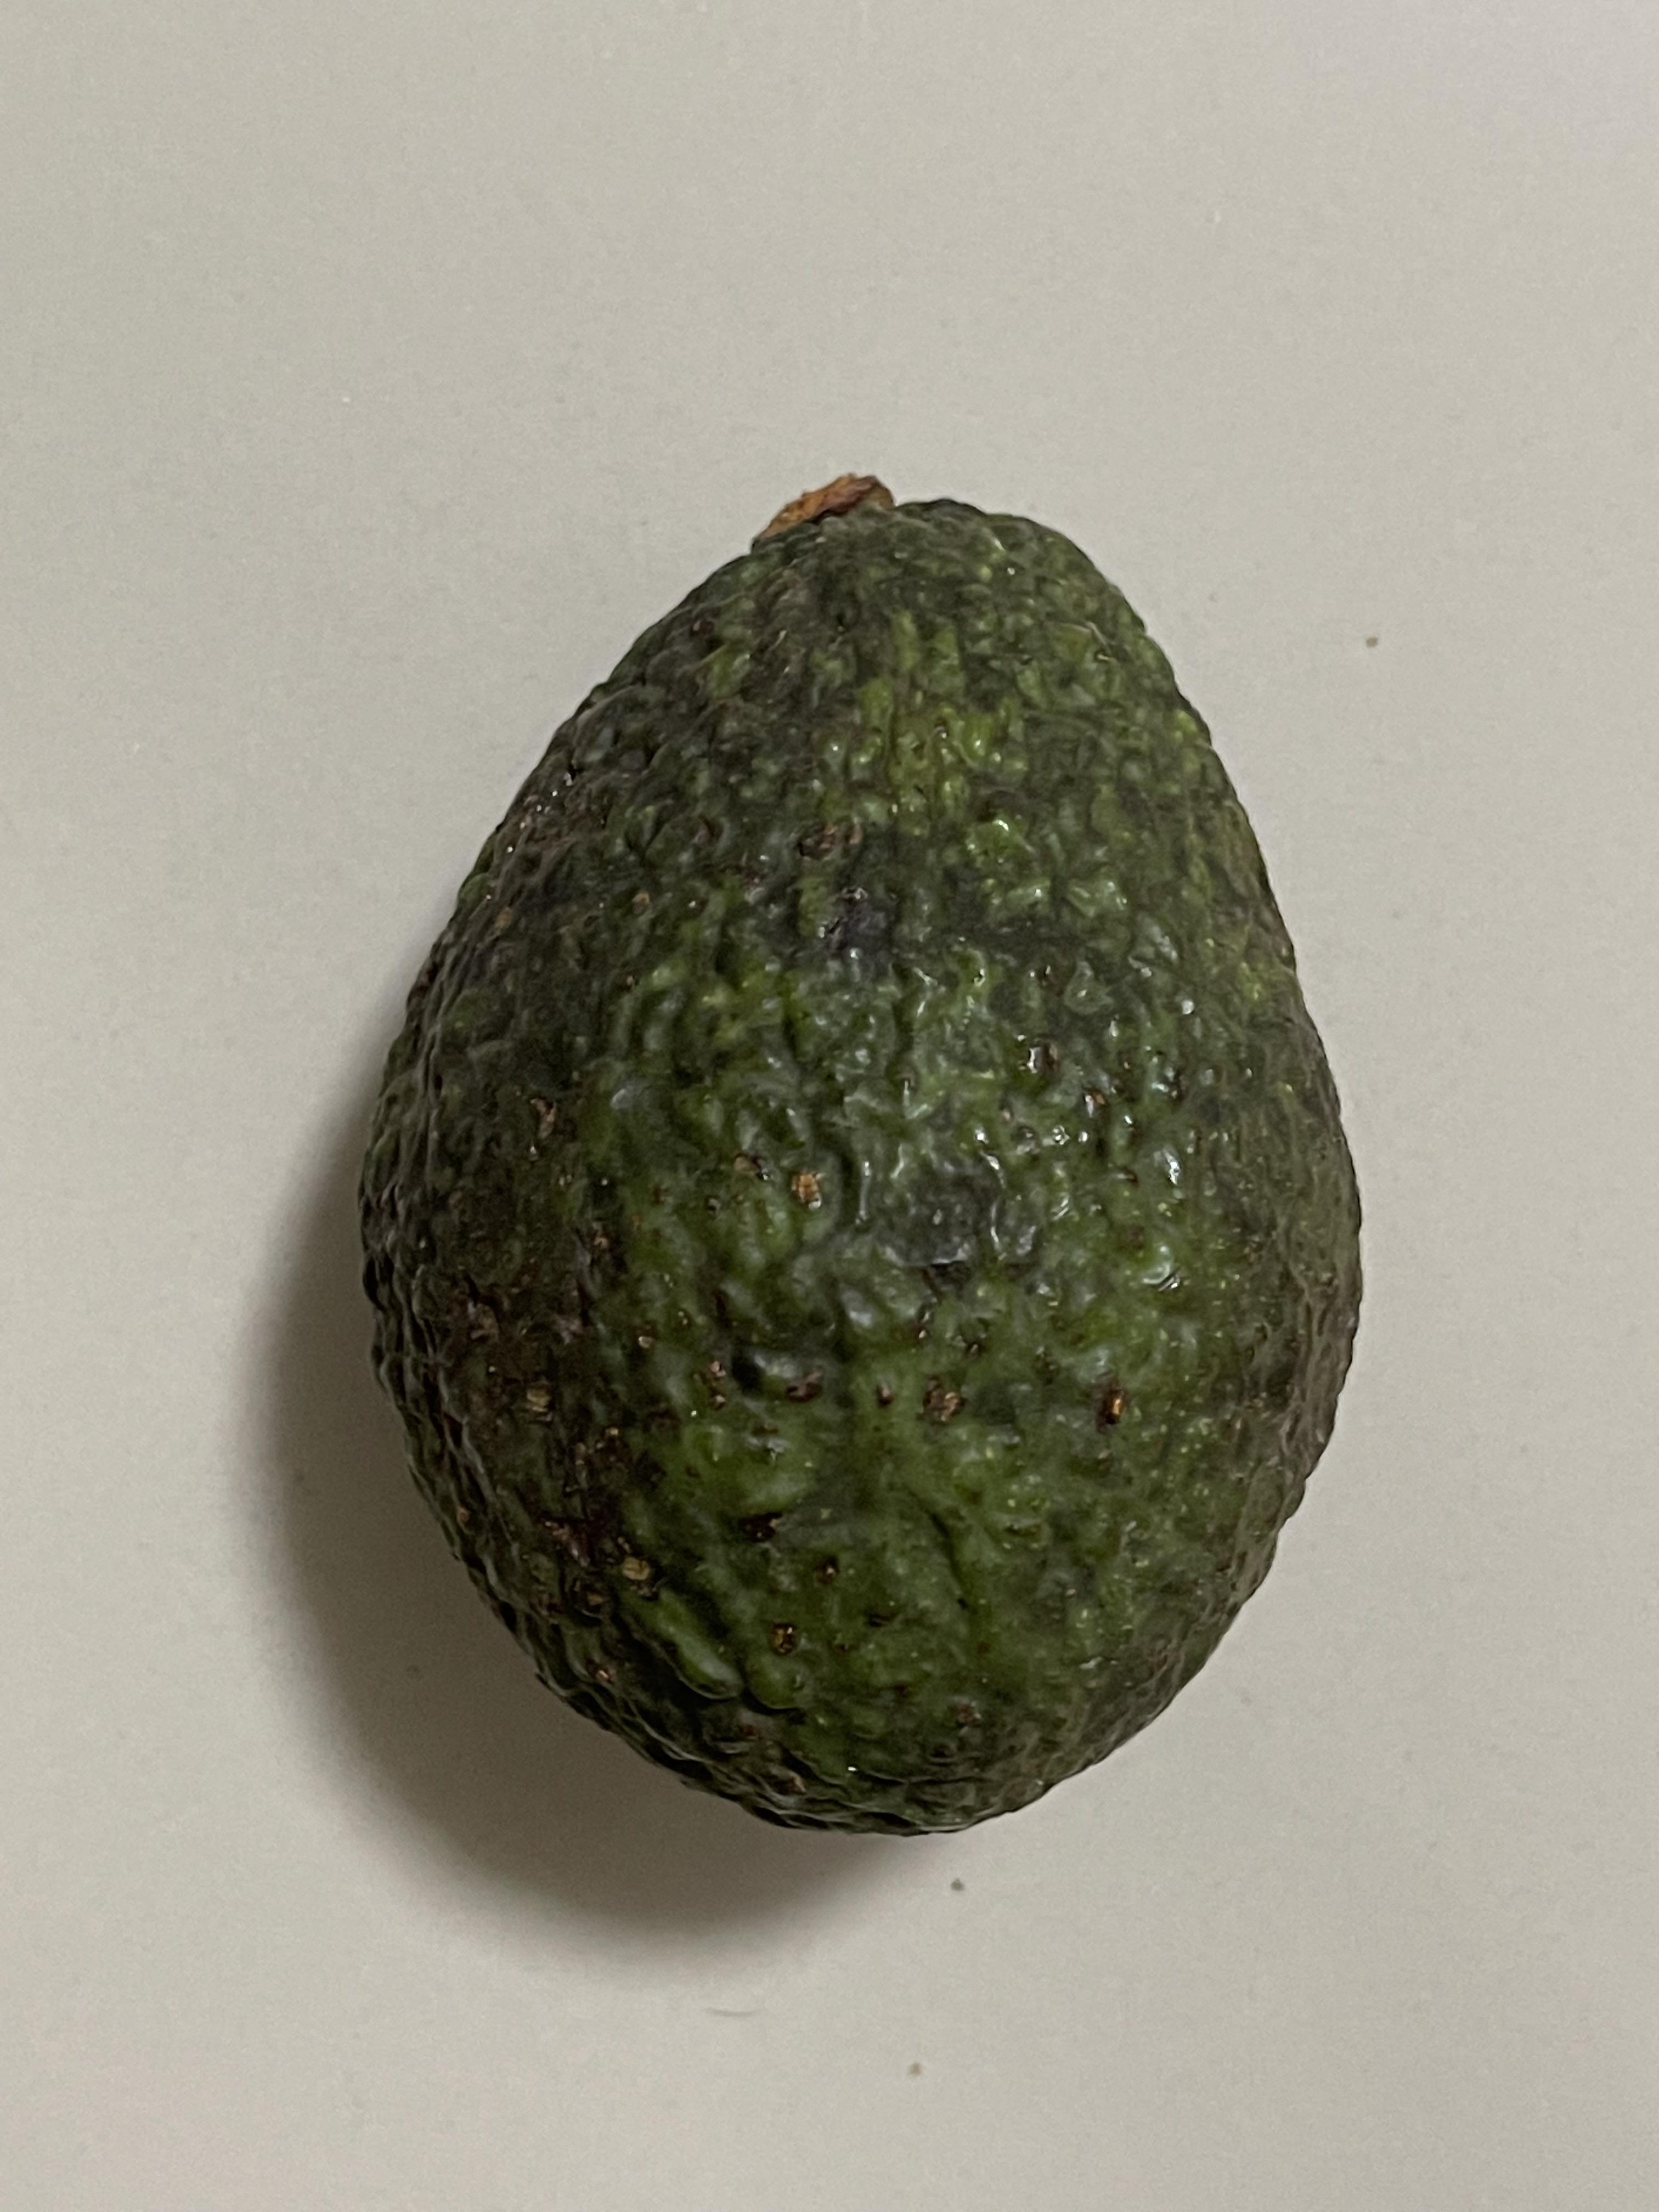Level1: (319, 428, 1396, 1860)
